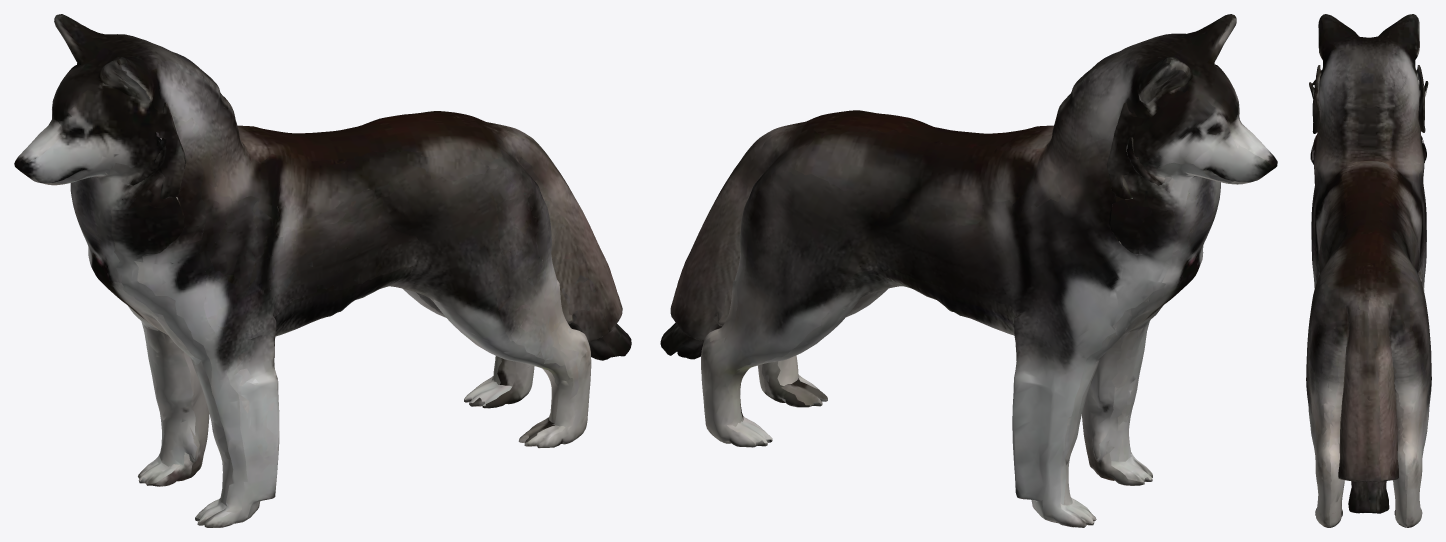
The model's file is chien_husky.glb.
3 views of the same model, side by side, from view 1: azimuth 30°, elevation 25°; view 2: azimuth 150°, elevation 25°; view 3: azimuth 270°, elevation 25° (orthographic). The views are drawn at different scales.
Parts seen in each view (by area): view 1: Object_2; view 2: Object_2; view 3: Object_2.
Part boxes in pixels (left/top/right/bottom): Object_2: left=14, top=14, right=631, bottom=527; Object_2: left=660, top=14, right=1277, bottom=527; Object_2: left=1306, top=14, right=1431, bottom=527.
Bounding box in the file's own units: 1.98 × 1.52 × 0.4902.
1 material, 1 textured.
